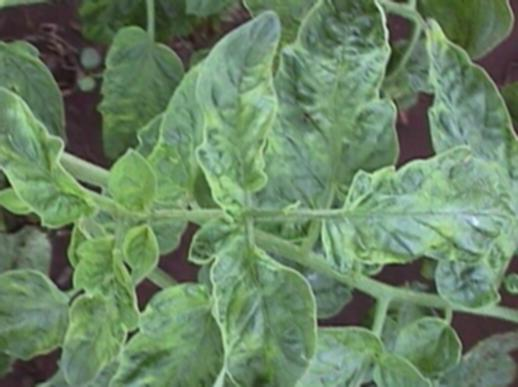Tomato leaf mosaic virus: (327, 149, 506, 268), (192, 7, 282, 206), (208, 229, 316, 387), (293, 0, 379, 172), (86, 277, 219, 387), (0, 72, 94, 226), (62, 236, 135, 387), (0, 270, 70, 356), (106, 147, 156, 218), (370, 355, 428, 387)
